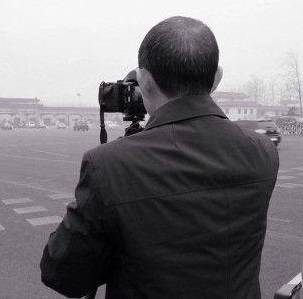person: (36, 14, 281, 299)
